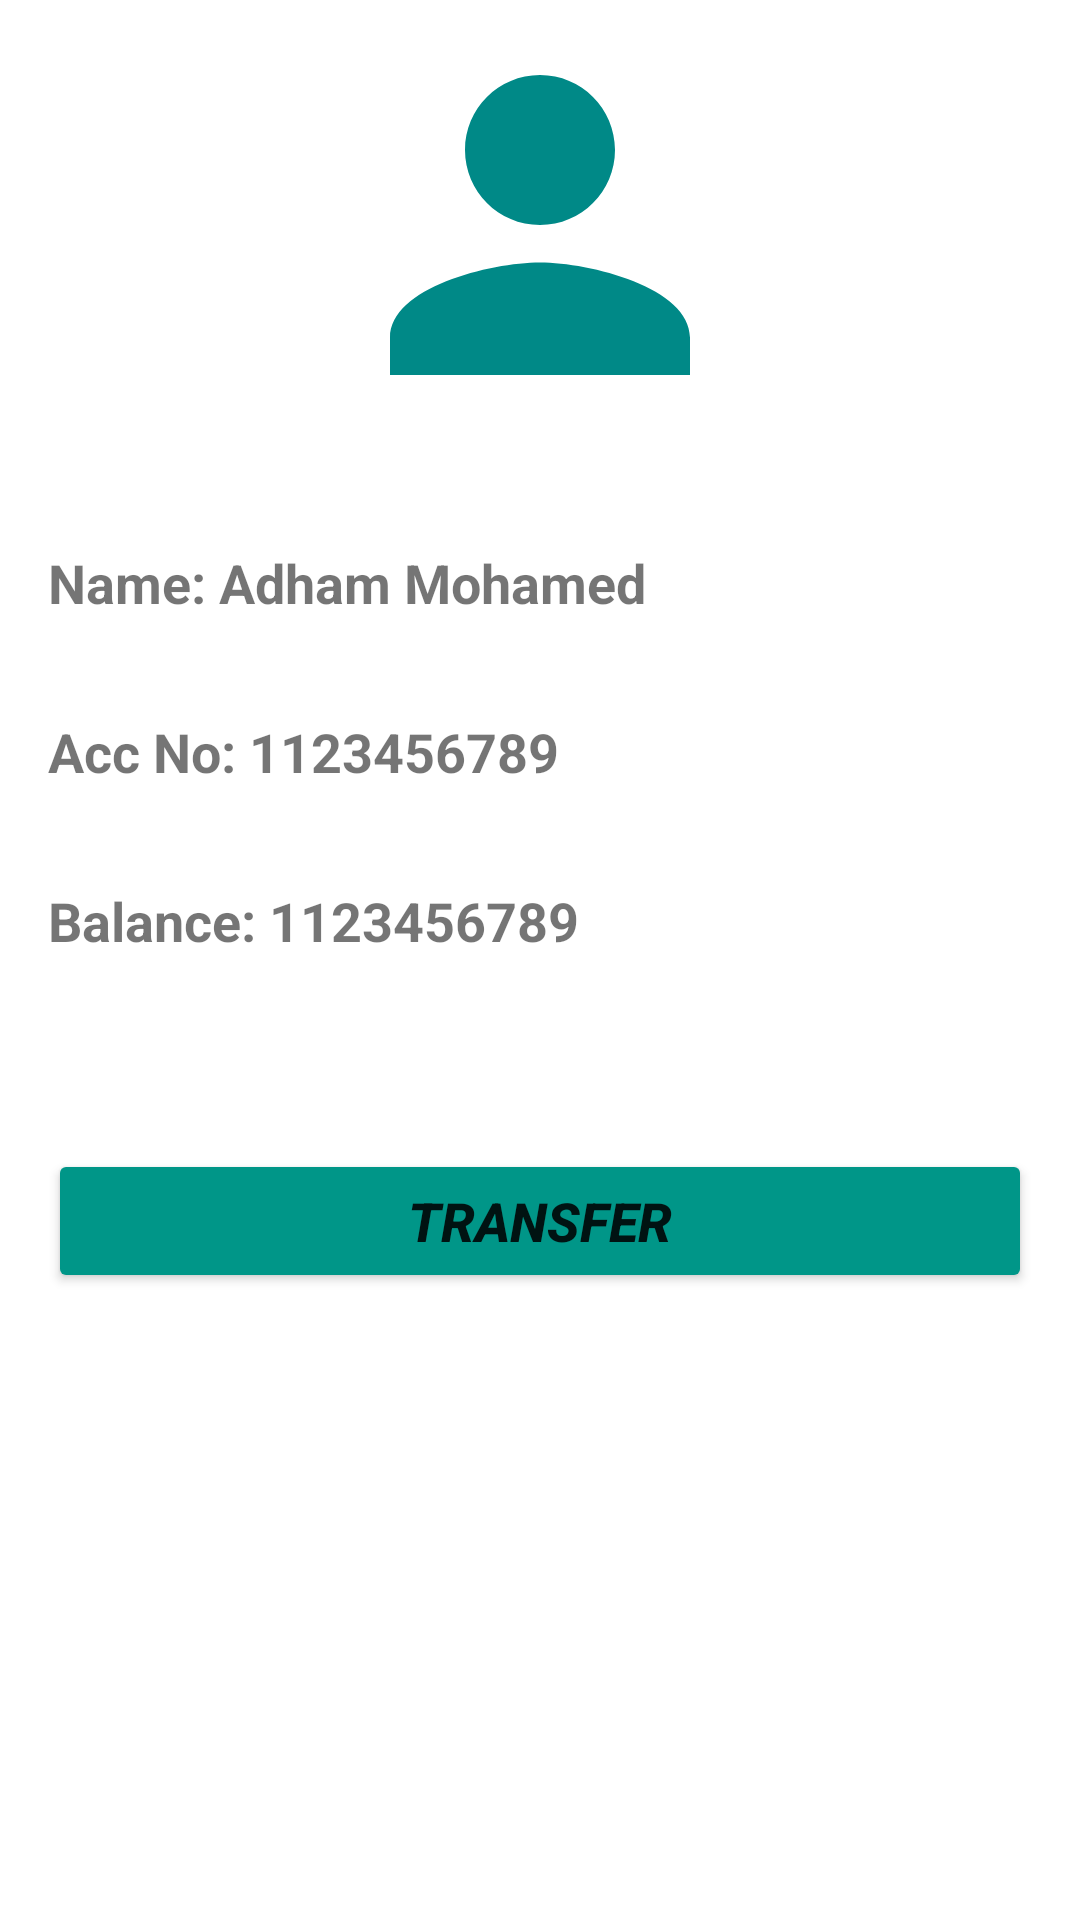

Screen size 1080 × 1920. Icon name, then its box in pixels as (left=x1, top=y1, right=x2, bottom=y2):
person: (left=390, top=75, right=690, bottom=375)
